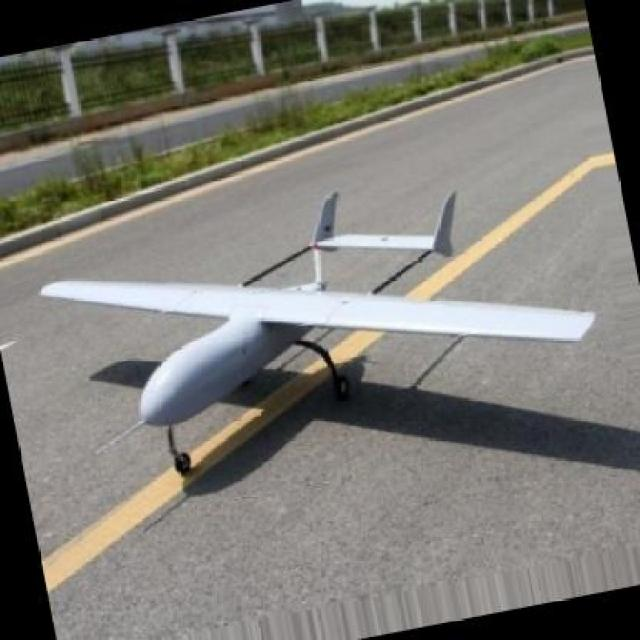iha: (42, 192, 596, 474)
